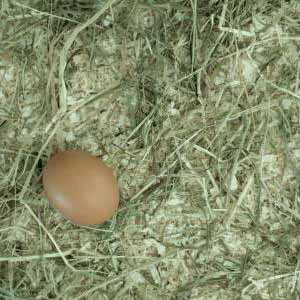egg: (43, 151, 120, 225)
